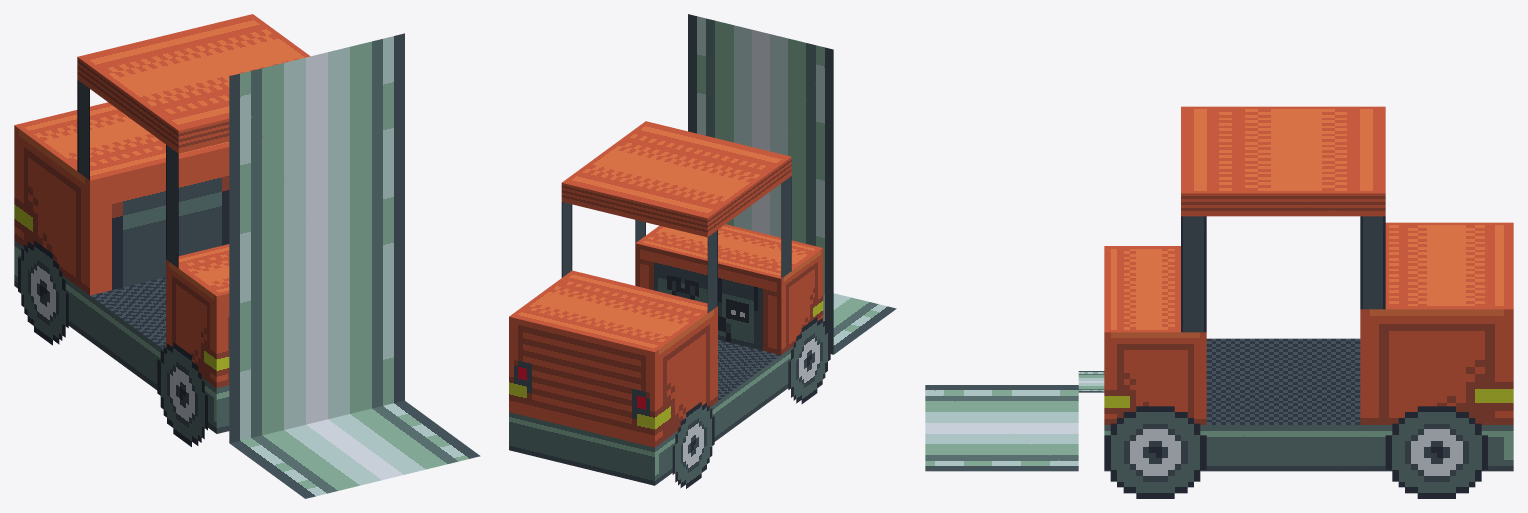
Rendered from forklift.glb.
3 views of the same model, side by side, from view 1: azimuth 30°, elevation 25°; view 2: azimuth 150°, elevation 25°; view 3: azimuth 270°, elevation 25° (orthographic). The views are drawn at different scales.
Visible parts, largest first — view 1: ForkliftPallet, Forklift; view 2: Forklift, ForkliftPallet; view 3: Forklift, ForkliftPallet.
Part boxes in pixels (<box>): ForkliftPallet: <box>229,33,480,498</box>; Forklift: <box>14,14,310,446</box>; Forklift: <box>509,121,830,488</box>; ForkliftPallet: <box>688,14,896,354</box>; Forklift: <box>1104,106,1513,498</box>; ForkliftPallet: <box>925,371,1104,471</box>.
Size of the model in its own units: 2.2 by 4.25 by 5.75.
1 material, 1 textured.
